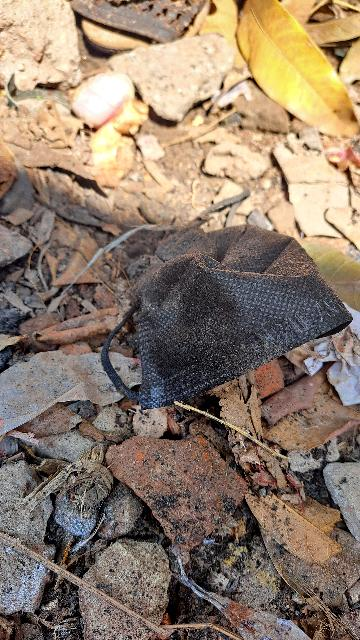mask: (86, 202, 352, 412)
